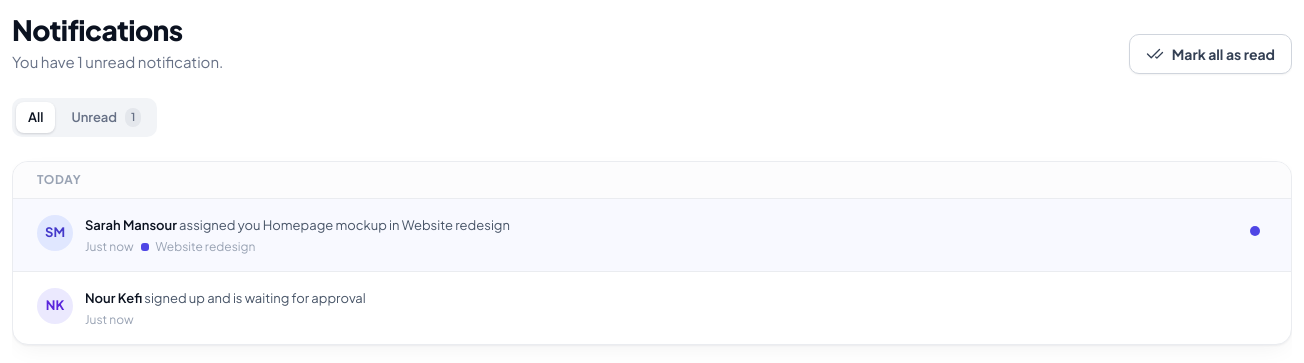
Test: Notifications page › lists notifications by day and marks one as read
expect the number of list items is 2: met, box 13,199 -> 1291,271; 13,271 -> 1291,344
expect the text "You have 1 unread notification." is shown: met, box 12,51 -> 223,74
Click the button named "Mark as read: Sarah Mansour assigned you Homepage mockup in Website redesign".
click(1255, 231)  # box 1243,219 -> 1267,243
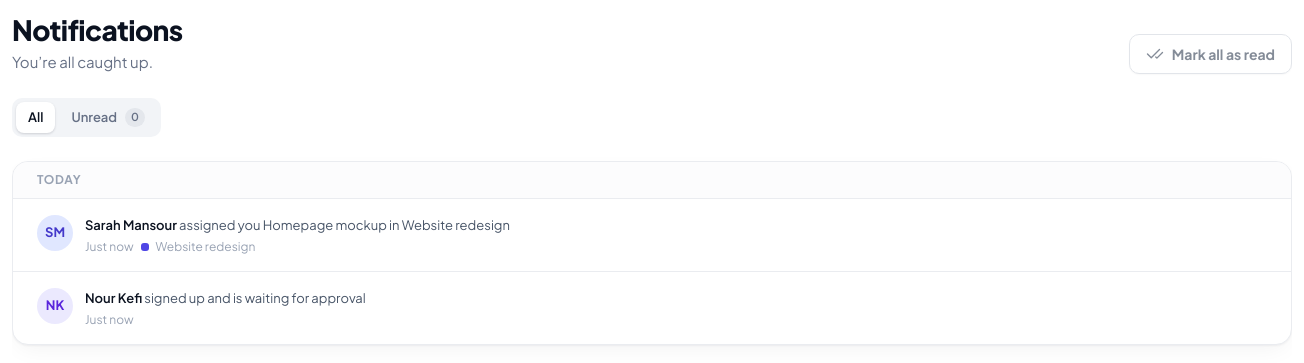
expect the text "You’re all caught up." is shown: met, box 12,52 -> 153,71
